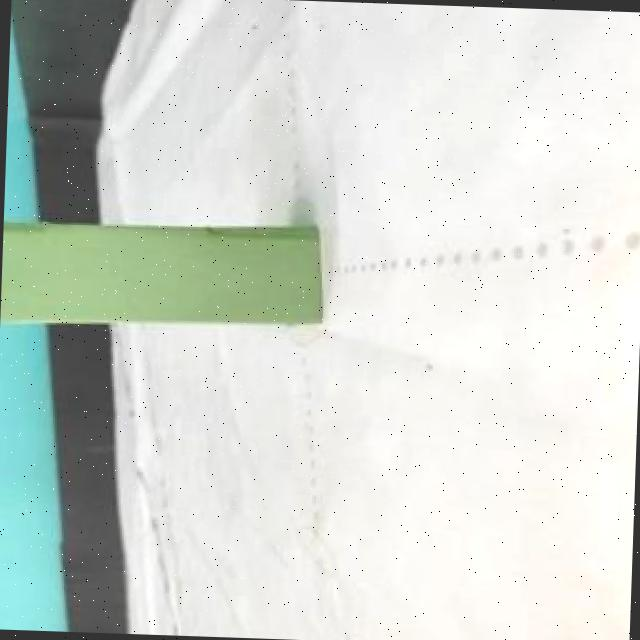greenbox: (0, 219, 325, 331)
